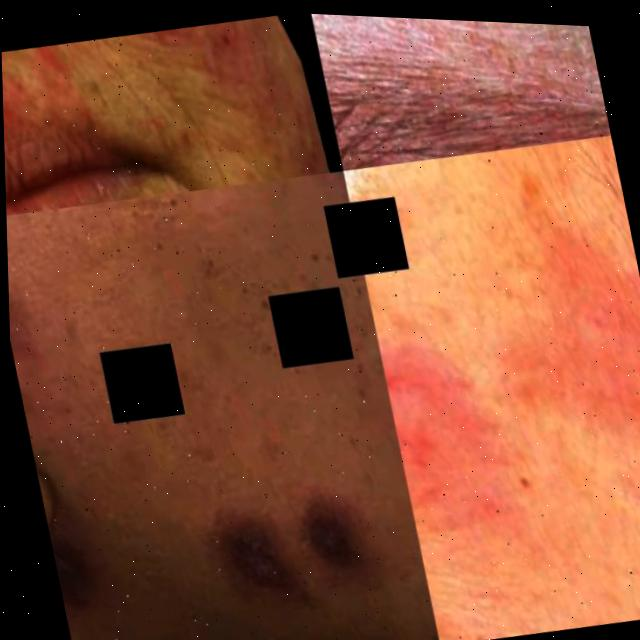lupus-detected: (340, 123, 640, 640), (0, 0, 334, 234), (84, 433, 398, 640), (141, 162, 374, 359), (1, 28, 165, 226), (47, 523, 125, 640)
